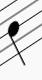note: (6, 2, 34, 68)
